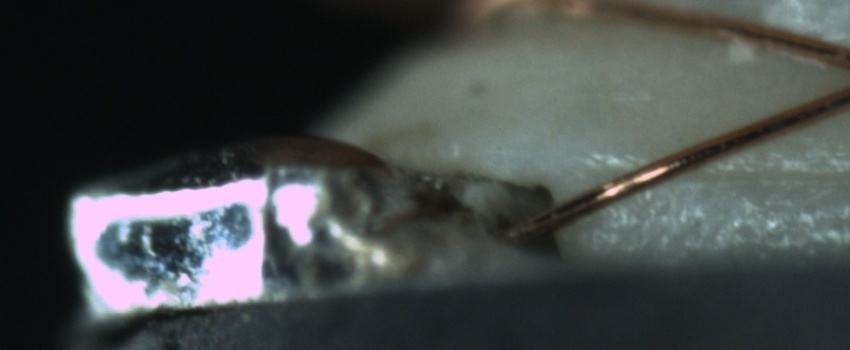DL: (629, 143, 849, 201)
